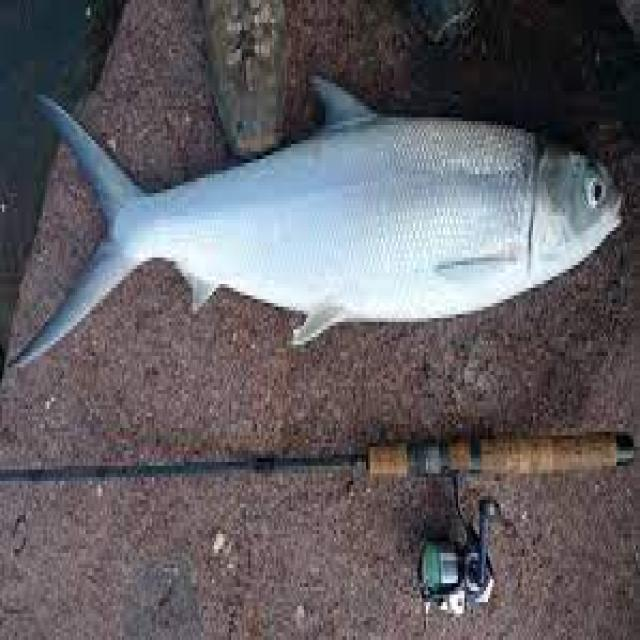Bangus: (19, 23, 624, 428)
